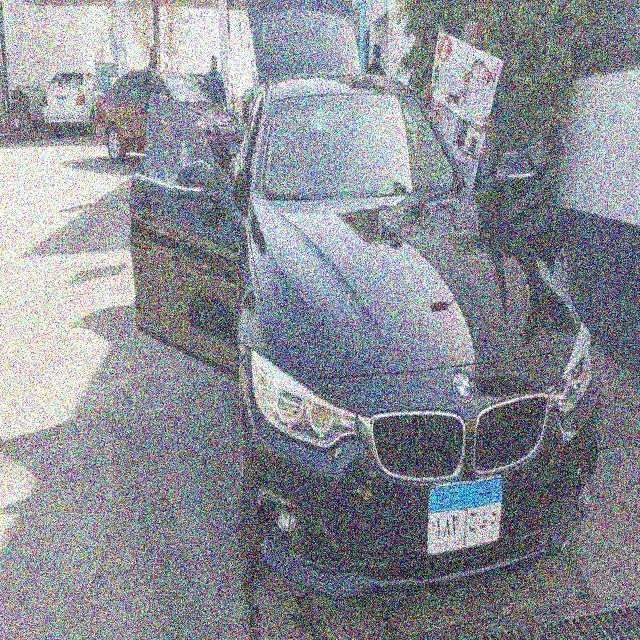License Plate: (425, 473, 505, 564)
